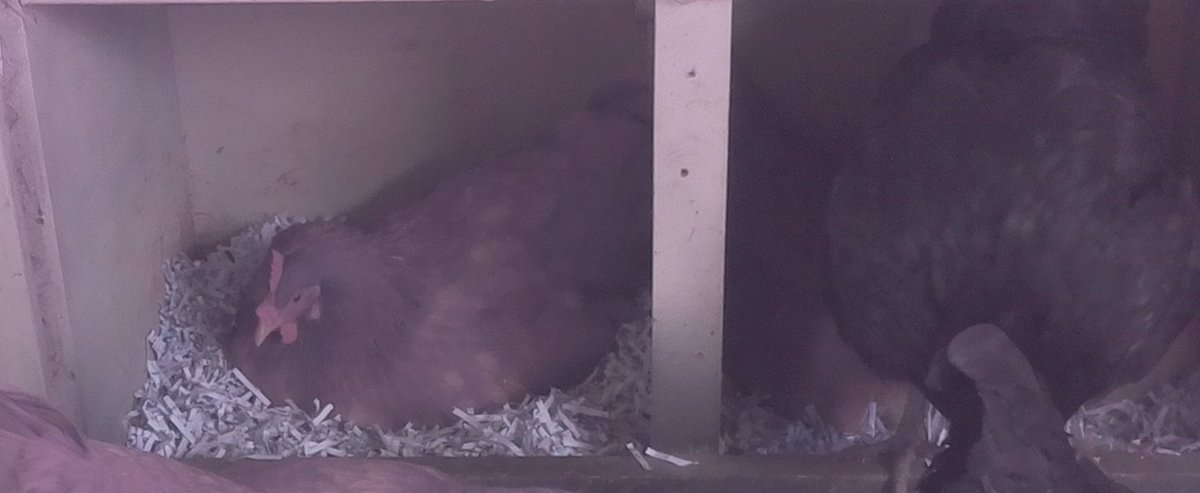hen: (823, 11, 1185, 466), (235, 69, 645, 441)
